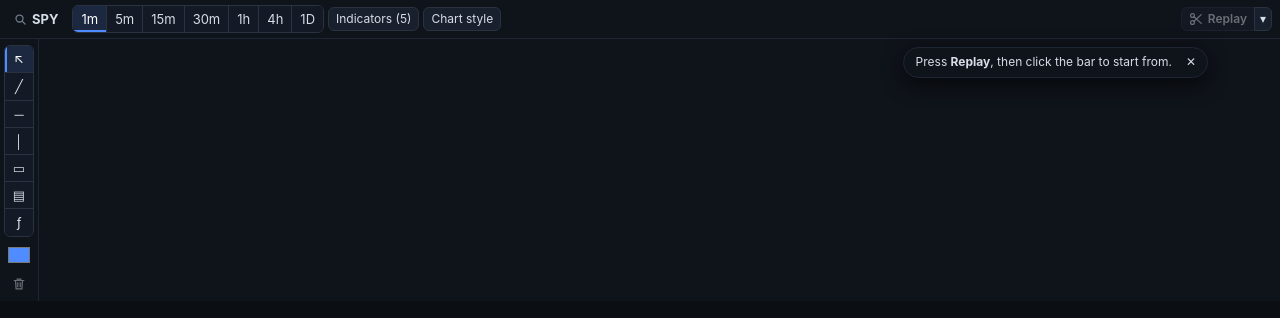
Test: the Replay button in the chart toolbar › takes the place of New replay and Sim market, picks a bar once the chart is in, and stops when pressed again
The image size is (1280, 318).
Later steps or results of the test are not shown.
Click the button "Replay": (1218, 19) [1181,7,1255,32]
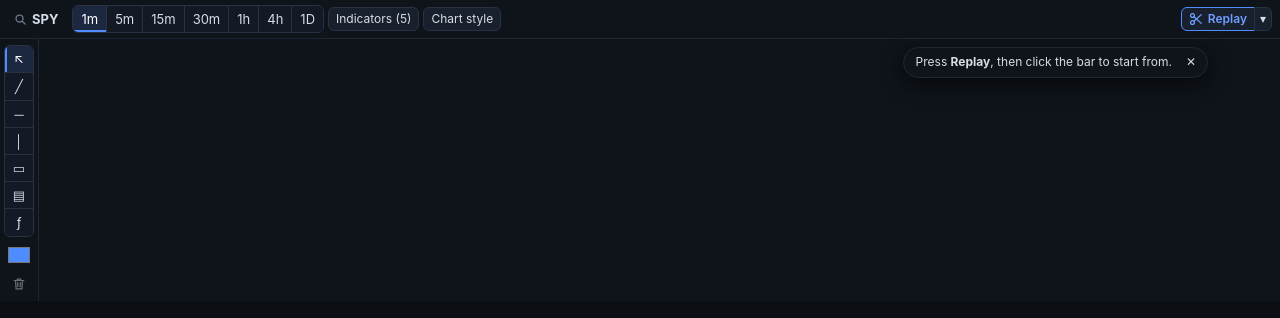
Now the button "Replay" does not have attribute aria-disabled
Click the button "Replay": (1218, 19) [1181,7,1255,32]
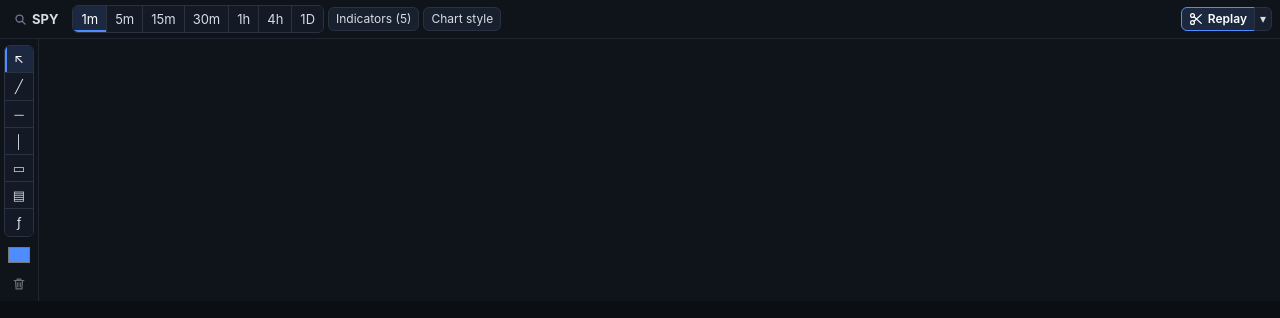
Now the button "Replay" is pressed
Click the button "Replay": (1218, 19) [1181,7,1255,32]
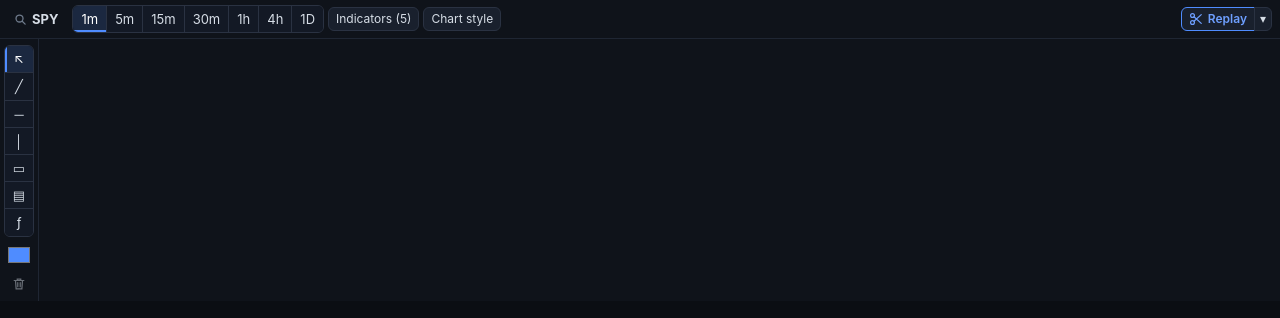
Now the button "Replay" is not pressed, box [1181,7,1255,32]
